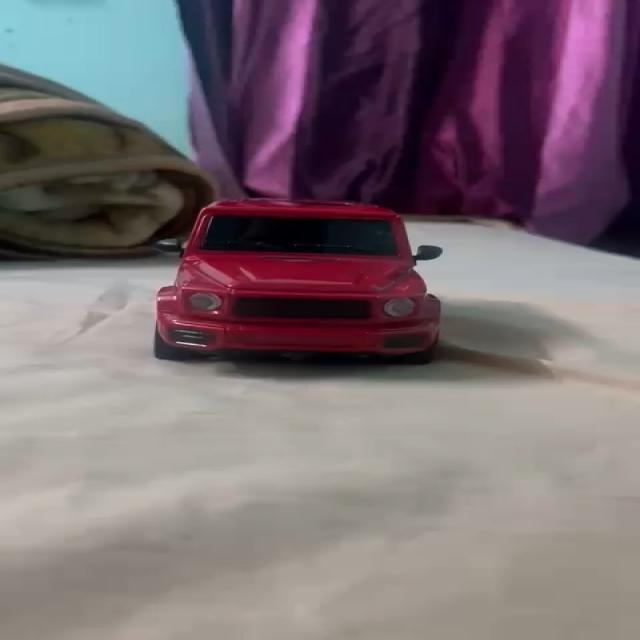light_vehicle: (157, 189, 446, 362)
